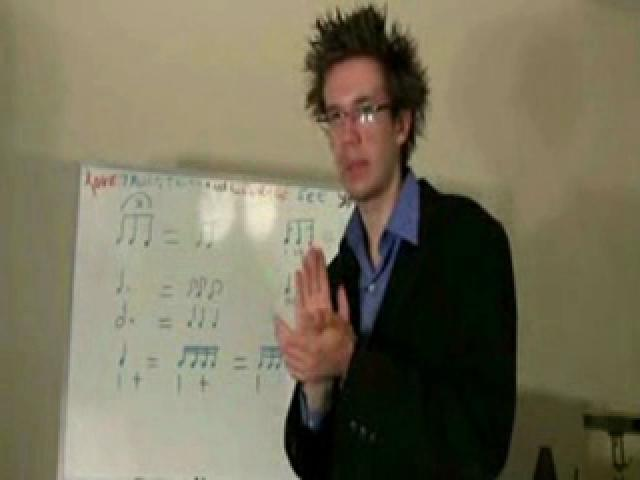F: (270, 4, 520, 478)
